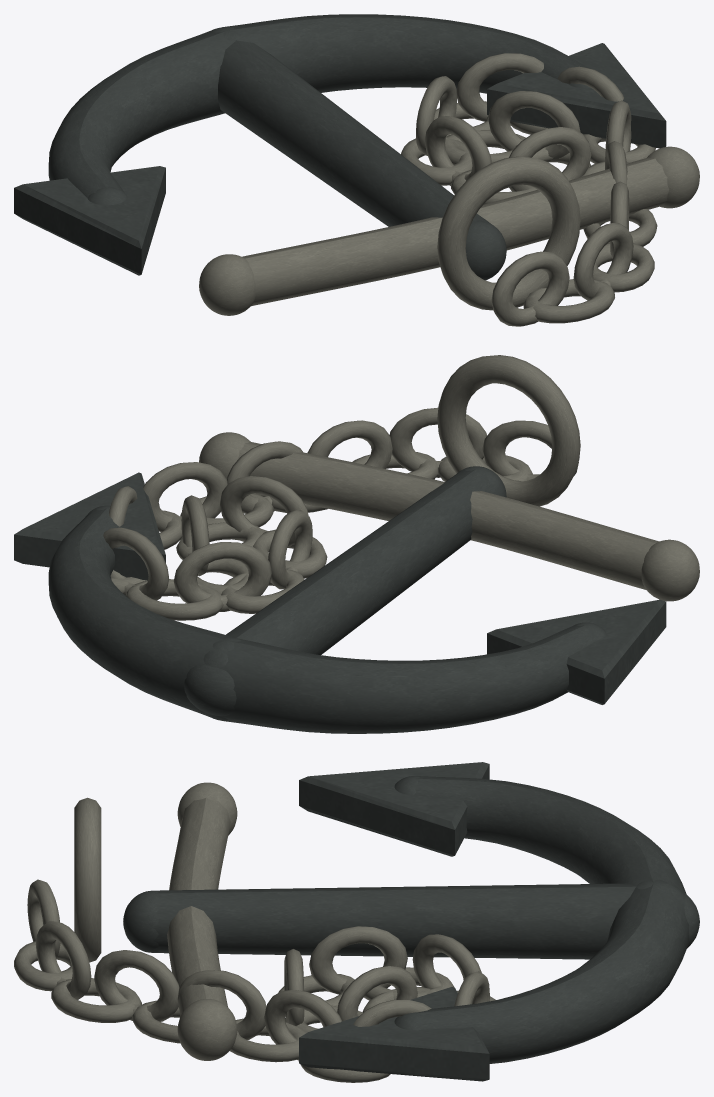
File: anchor.glb
3 renders of one model, top to bottom at view 1: azimuth 30°, elevation 25°; view 2: azimuth 150°, elevation 25°; view 3: azimuth 270°, elevation 25°, orthographic.
Parts seen in each view (by area): view 1: anchor; view 2: anchor; view 3: anchor.
Part boxes in pixels (box(x1,y1,x2,y2)): anchor: box(14, 14, 699, 326); anchor: box(14, 355, 699, 733); anchor: box(14, 762, 699, 1082).
Bounding box in the file's own units: 1.4 × 0.35 × 1.4.
1 material, 1 textured.
